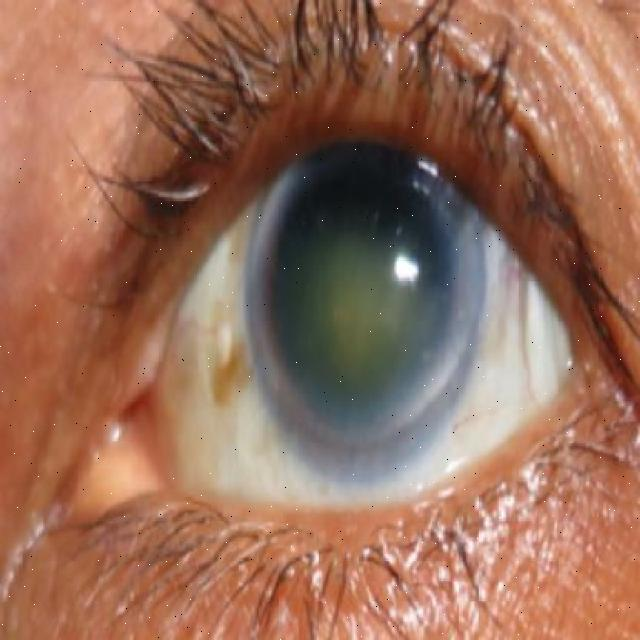Cataract: (238, 110, 488, 488)
